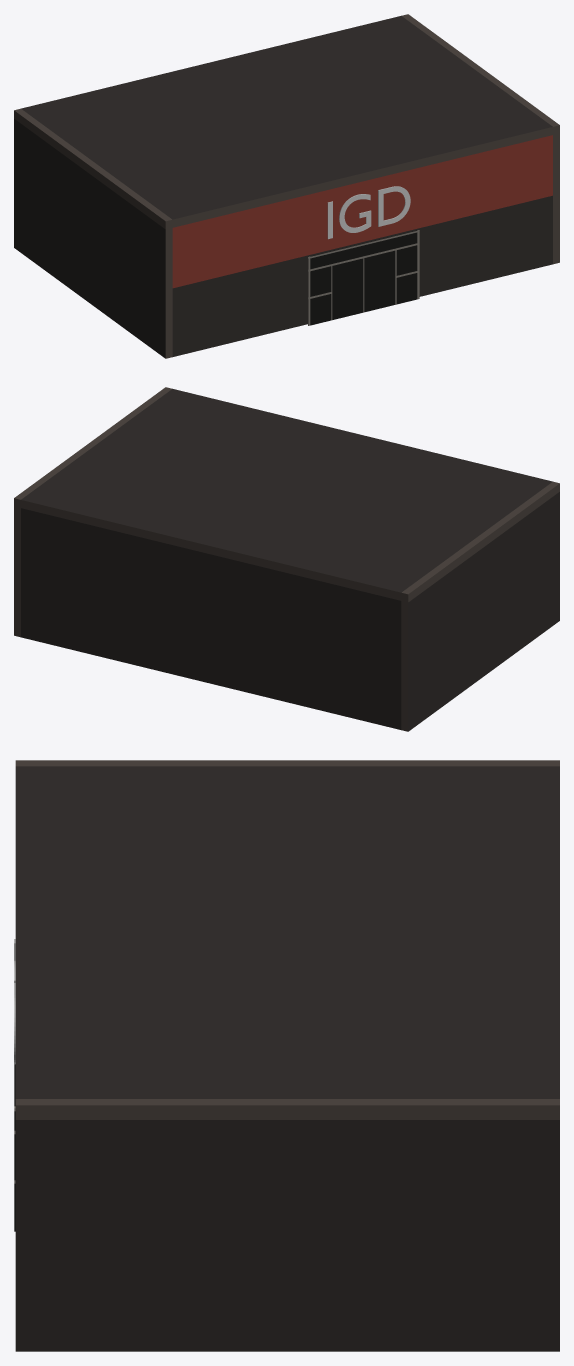
Rendered from IGD.fbx.
3 views of the same model, one above another, from view 1: azimuth 30°, elevation 25°; view 2: azimuth 150°, elevation 25°; view 3: azimuth 270°, elevation 25° (orthographic). The views are drawn at different scales.
Parts seen in each view (by area): view 1: Cube.031; view 2: Cube.031; view 3: Cube.031.
Boxes of the visible parts, <box> form: Cube.031: <box>14,14,559,358</box>; Cube.031: <box>14,387,559,731</box>; Cube.031: <box>14,760,559,1351</box>.
Size of the model in its own units: 1200 by 405 by 803.
